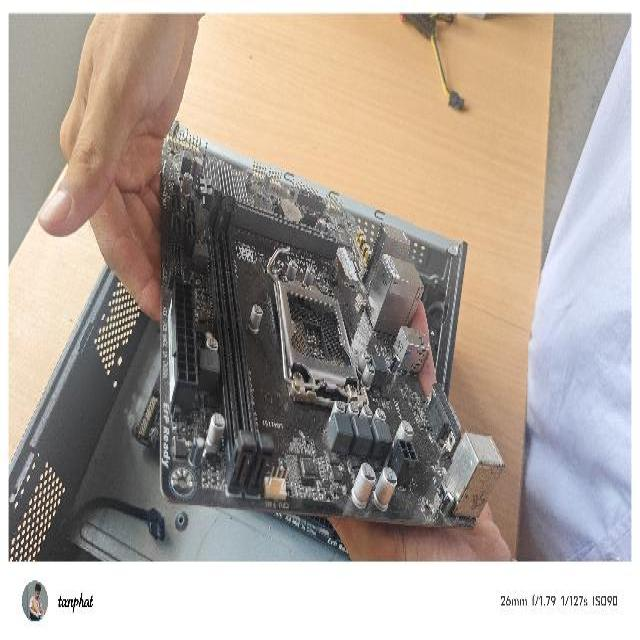Mainboard: (154, 117, 508, 550)
